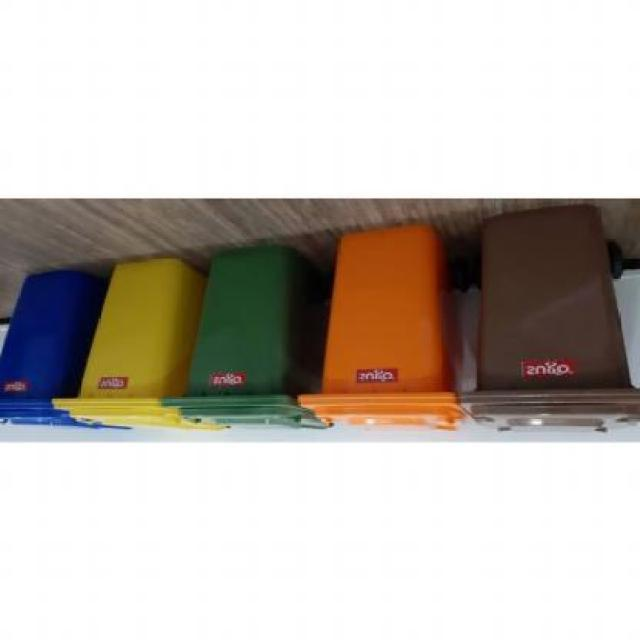garbage container: (473, 205, 640, 438), (315, 218, 471, 434)
